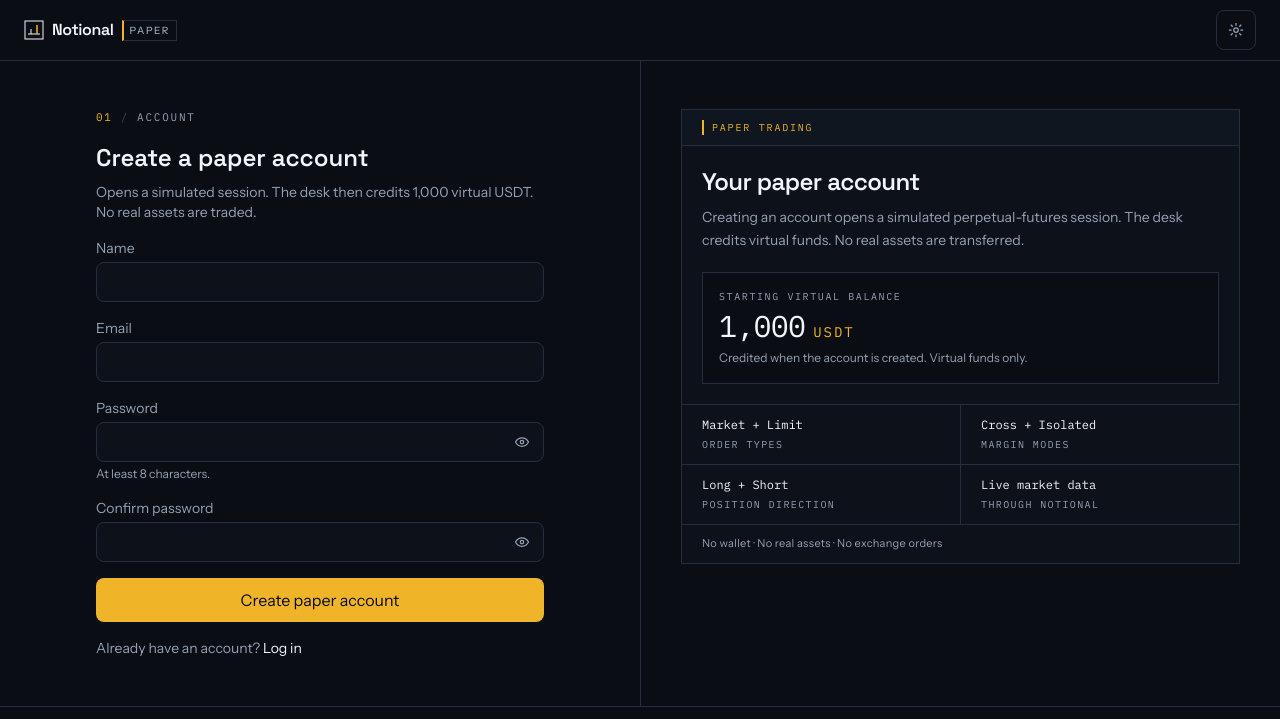
Test case: auth pages › sign up › disables all form controls while submission is pending
Type "Ada" into the field labelled "Name".
click(320, 282); type("Ada")  # box [96,262,544,302]
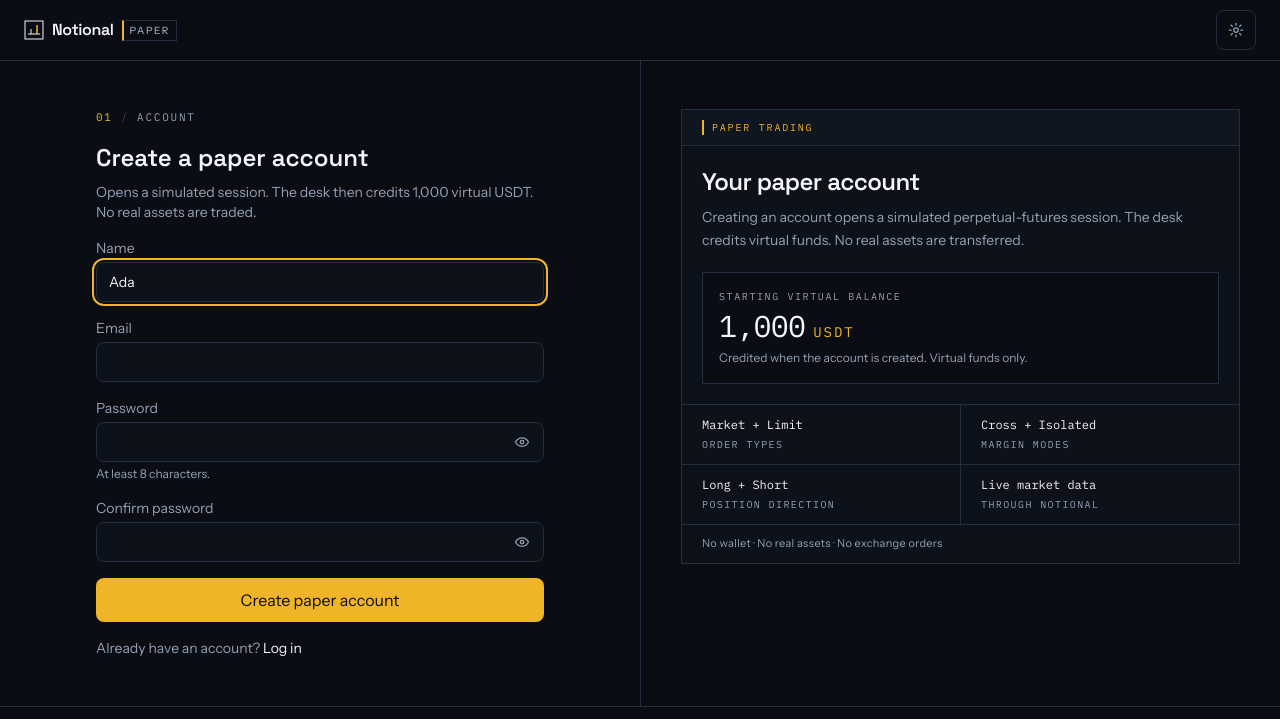
Type "ada@example.com" into the field labelled "Email".
click(320, 362); type("ada@example.com")  # box [96,342,544,382]
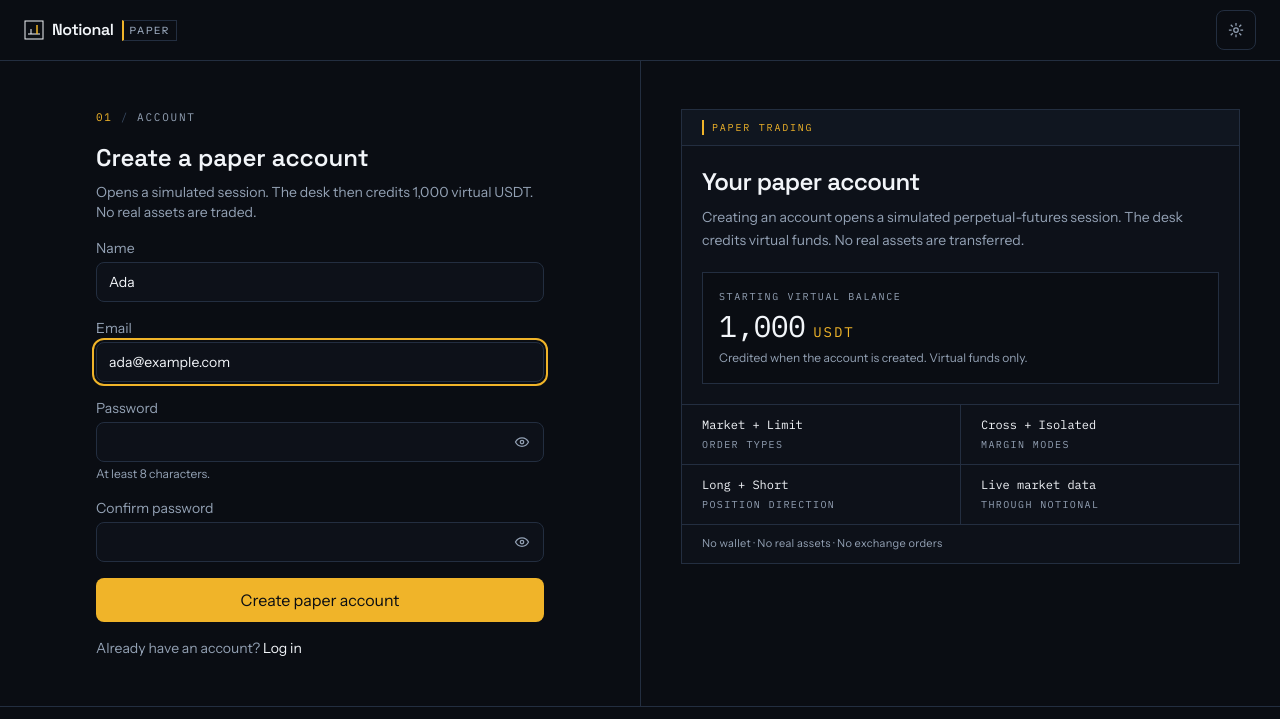
Type "password1" into the password field labelled "Password".
click(320, 442); type("password1")  # box [96,422,544,462]
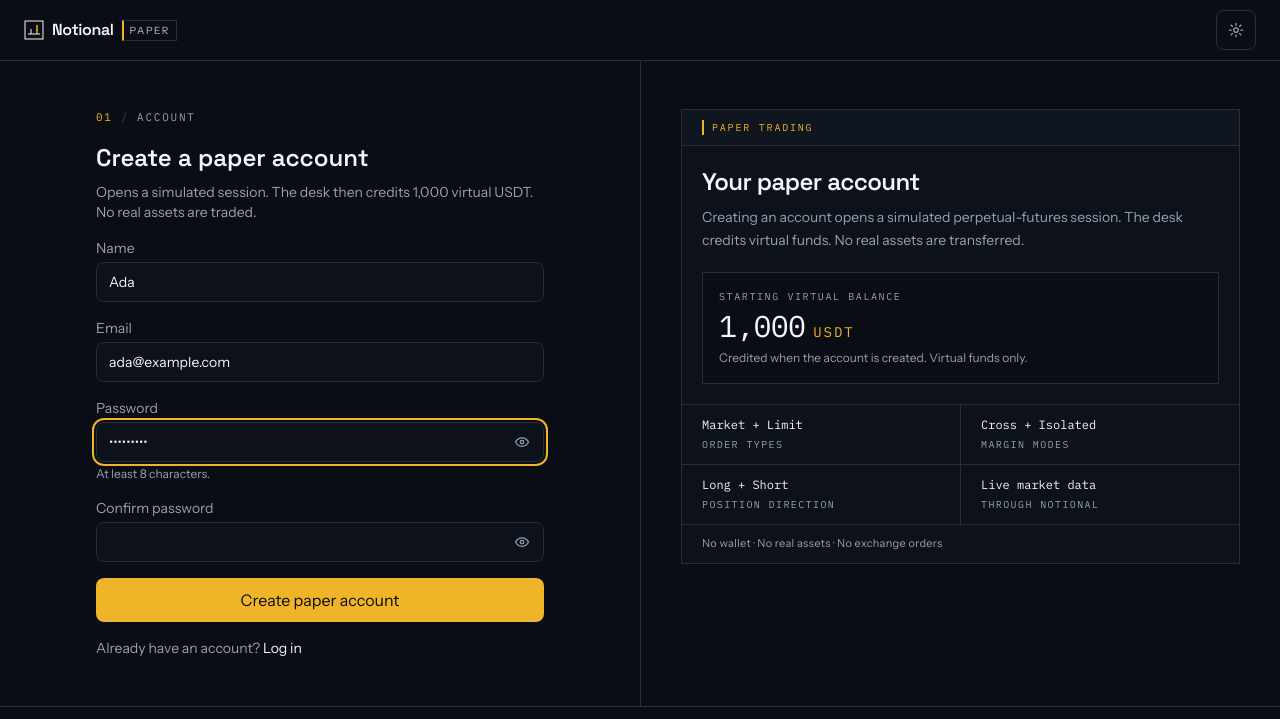
Type "password1" into the password field labelled "Confirm password".
click(320, 542); type("password1")  # box [96,522,544,562]
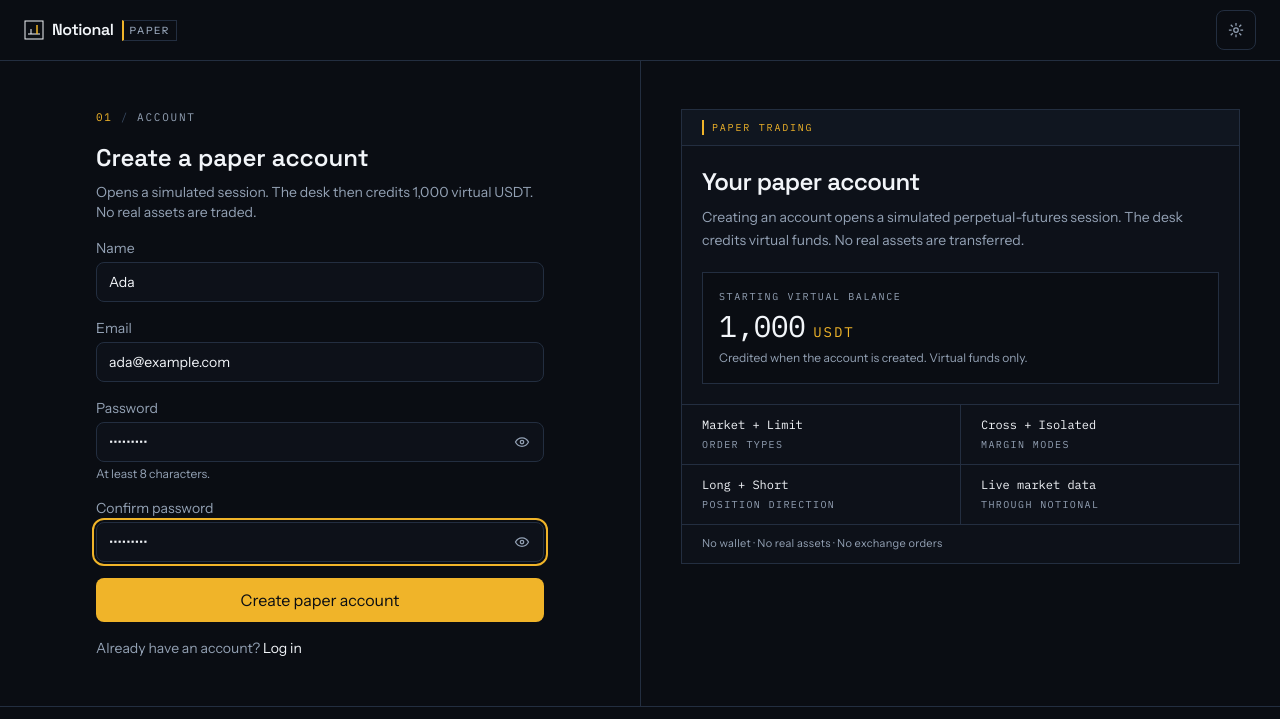
Submit the form named "Email", box [96,109,544,658]
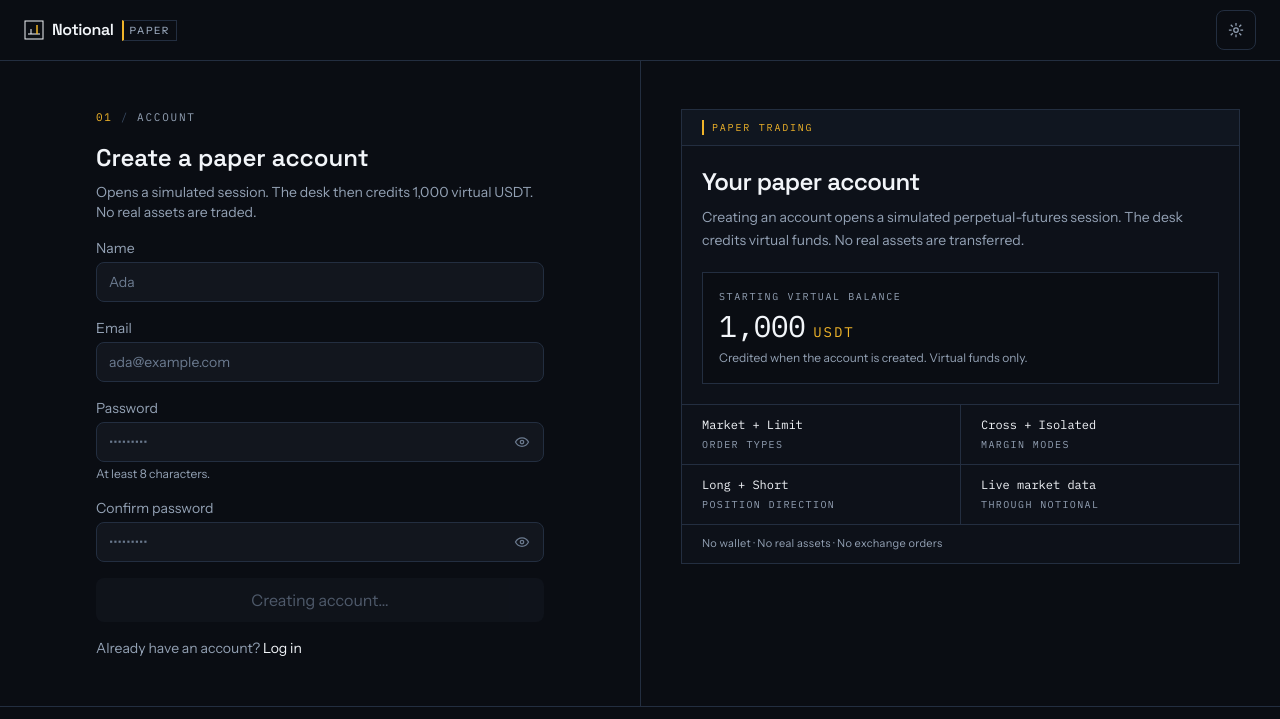
Now the field labelled "Name" is disabled, box [96,262,544,302]
Now the field labelled "Email" is disabled, box [96,342,544,382]
Now the password field labelled "Password" is disabled, box [96,422,544,462]
